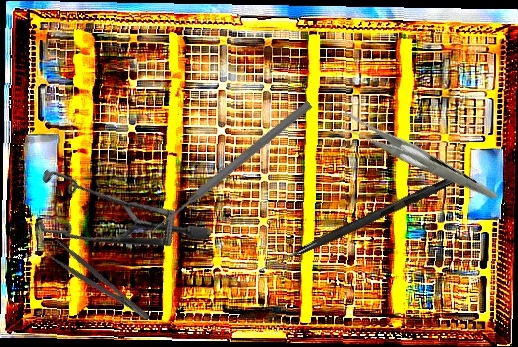Dressing Forceps: (334, 76, 499, 242), (43, 237, 153, 331)
Hook Surgical: (257, 173, 454, 278)
Pusher: (150, 98, 314, 235)
Speculum: (8, 119, 213, 323)
